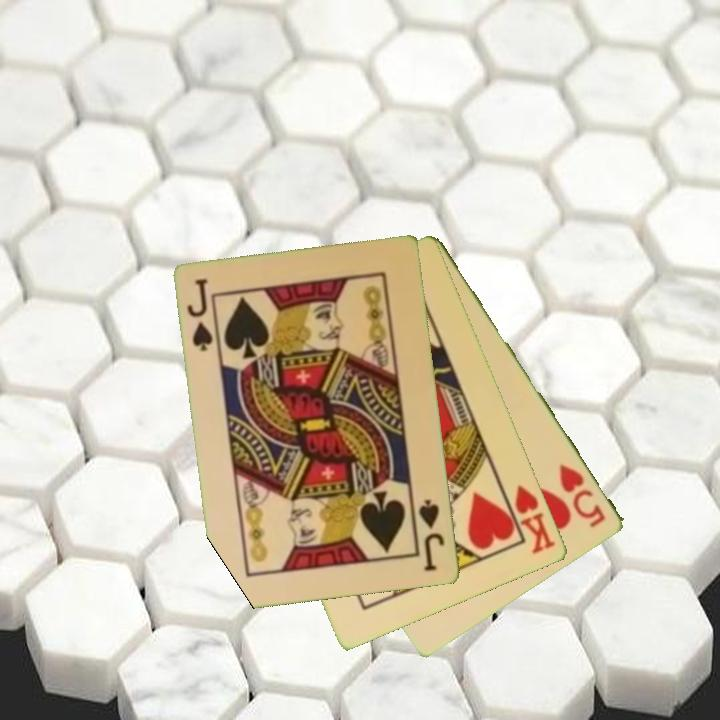5h: (556, 460, 609, 531)
Js: (184, 275, 221, 355), (415, 496, 448, 575)
Kh: (500, 481, 559, 557)
